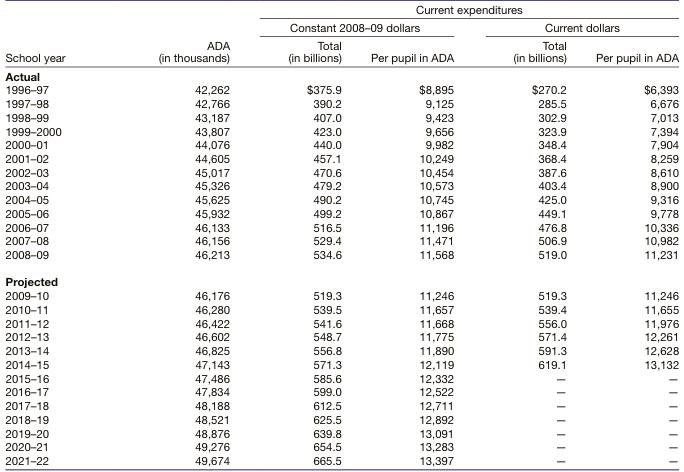table: (4, 3, 678, 466)
table column: (111, 3, 258, 466), (355, 3, 482, 466), (4, 3, 111, 466), (482, 3, 580, 466), (580, 3, 678, 466), (258, 3, 355, 466)
table column header: (4, 3, 678, 67)
table projected row header: (4, 268, 678, 289), (4, 67, 678, 83)
table row: (4, 36, 678, 67), (4, 247, 678, 268), (4, 268, 678, 289), (4, 18, 678, 36), (4, 67, 678, 83), (4, 3, 678, 18), (4, 96, 678, 110), (4, 110, 678, 124), (4, 124, 678, 138), (4, 151, 678, 165), (4, 165, 678, 179), (4, 179, 678, 193), (4, 206, 678, 220), (4, 220, 678, 234), (4, 302, 678, 316), (4, 316, 678, 330), (4, 343, 678, 357), (4, 357, 678, 371), (4, 371, 678, 385), (4, 398, 678, 412), (4, 412, 678, 426), (4, 426, 678, 440), (4, 83, 678, 96), (4, 138, 678, 151), (4, 193, 678, 206), (4, 234, 678, 247), (4, 289, 678, 302), (4, 330, 678, 343), (4, 385, 678, 398), (4, 440, 678, 453), (4, 453, 678, 466)
table spanning cell: (111, 3, 258, 67), (4, 3, 111, 67), (258, 3, 678, 18), (258, 18, 482, 36), (482, 18, 678, 36)
